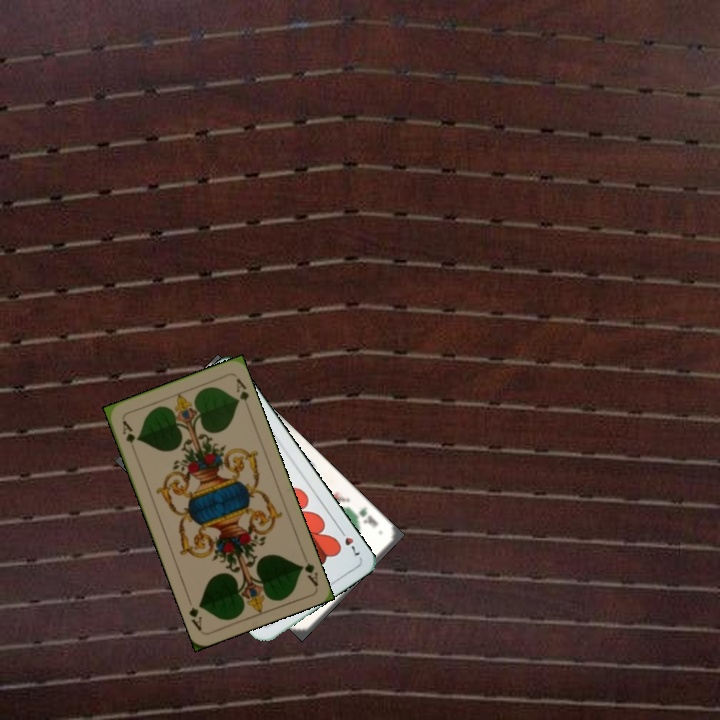GA: (118, 416, 140, 455), (296, 558, 321, 588)
GK: (349, 503, 381, 530)
H7: (335, 524, 363, 560)
